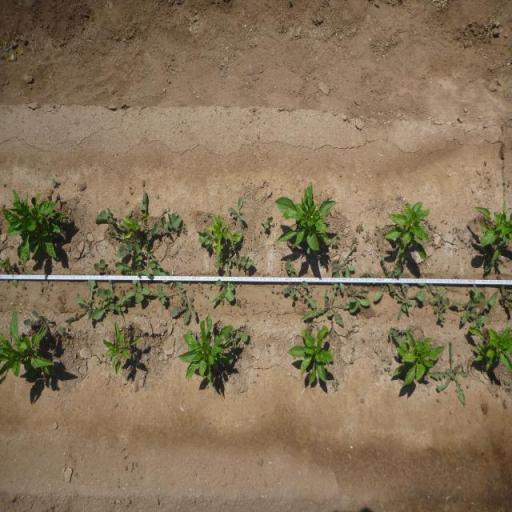plant: (274, 182, 338, 258), (1, 188, 68, 260), (0, 307, 56, 386), (177, 312, 232, 385), (285, 324, 335, 388), (391, 333, 447, 388), (385, 200, 432, 265), (103, 319, 143, 375), (474, 201, 511, 259), (468, 326, 511, 374), (207, 212, 237, 257), (122, 214, 149, 239)
weed: (94, 188, 183, 285), (213, 229, 256, 304), (303, 281, 361, 329), (432, 340, 468, 405), (114, 242, 151, 304), (359, 255, 402, 305), (452, 283, 499, 328), (65, 277, 105, 324), (282, 258, 317, 308), (394, 272, 427, 322), (91, 288, 135, 320), (331, 248, 358, 294), (169, 282, 197, 324), (229, 324, 249, 366), (23, 310, 51, 339), (0, 256, 18, 288), (348, 282, 371, 306), (434, 293, 450, 325), (143, 284, 166, 306), (196, 226, 214, 253), (227, 195, 245, 222), (388, 326, 413, 345), (416, 282, 446, 297), (209, 279, 227, 303), (498, 284, 512, 310), (482, 259, 504, 274), (93, 258, 111, 276), (18, 257, 32, 276), (259, 215, 274, 229), (58, 324, 68, 338), (422, 296, 436, 306), (355, 222, 365, 234), (332, 378, 340, 391), (350, 238, 360, 248), (448, 226, 459, 235), (216, 294, 224, 306), (331, 236, 340, 246), (364, 230, 371, 242), (2, 48, 12, 56), (466, 363, 472, 374), (51, 178, 59, 186), (187, 329, 196, 336), (242, 299, 249, 308), (236, 298, 242, 308), (181, 224, 188, 232), (384, 366, 392, 373), (348, 358, 355, 364), (458, 234, 464, 241), (21, 284, 27, 290), (377, 238, 381, 247), (434, 224, 438, 233), (360, 306, 364, 314), (204, 293, 209, 299), (374, 350, 380, 355), (162, 208, 167, 213), (70, 216, 74, 222), (138, 313, 144, 317), (209, 284, 213, 290), (276, 290, 280, 296), (382, 356, 386, 362), (496, 392, 500, 398), (428, 222, 432, 228), (424, 218, 428, 224), (46, 297, 50, 302), (97, 359, 102, 363), (240, 223, 244, 228), (41, 286, 44, 292), (202, 218, 206, 222), (263, 228, 267, 232), (270, 289, 274, 293), (436, 398, 440, 402), (466, 384, 470, 388), (259, 228, 262, 233), (156, 350, 159, 354), (284, 310, 287, 314), (266, 344, 270, 346), (308, 326, 310, 330), (384, 230, 386, 234), (390, 362, 392, 365), (374, 232, 377, 234), (267, 233, 268, 237)
